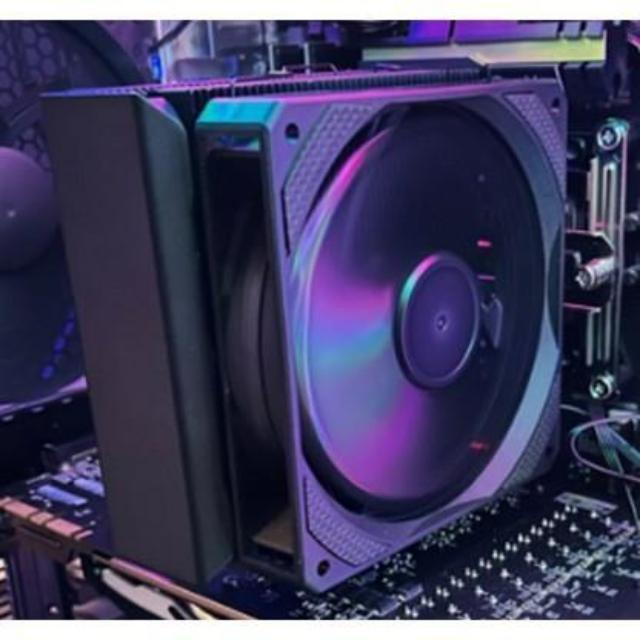CPU_Fan: (30, 65, 572, 592)
